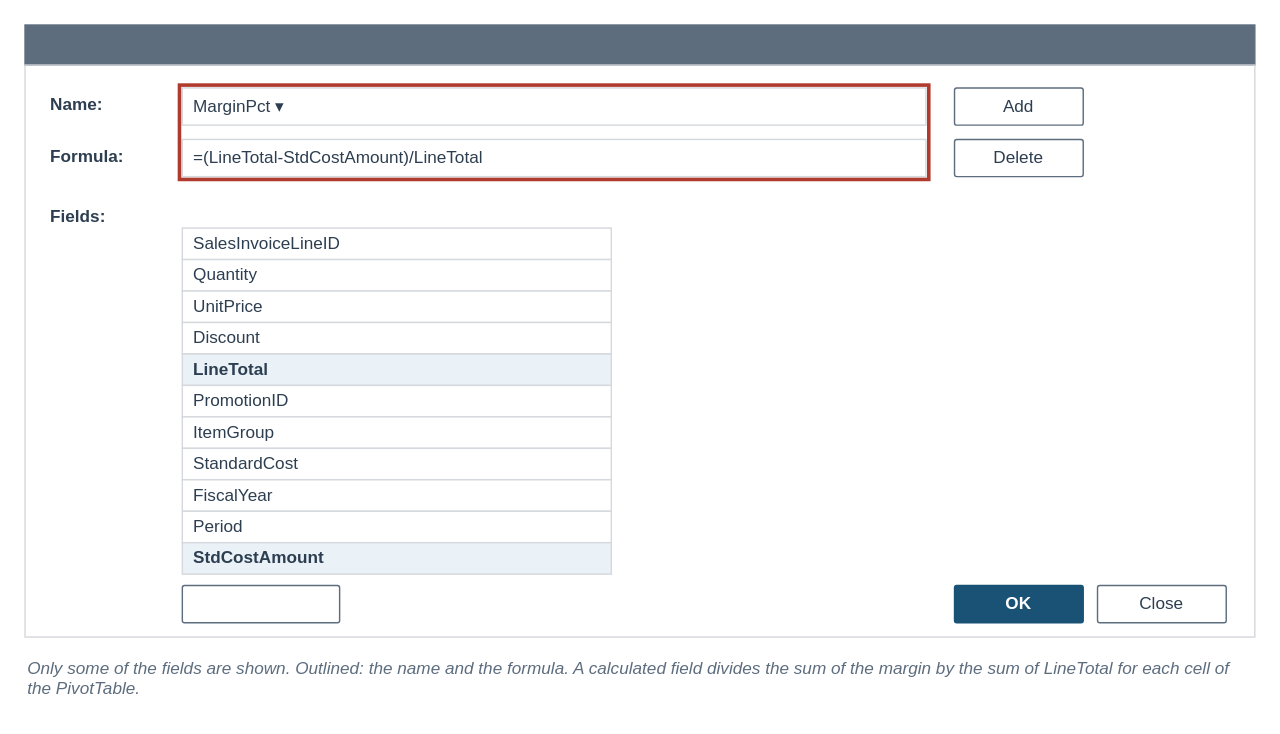
Some shapes in this 1280 by 734 pixel diagram are drawn without their labels. Each missing label, with the centre of its shape:
"Insert Calculated Field" goes at point (639, 44).
"Insert Field" goes at point (260, 603).
